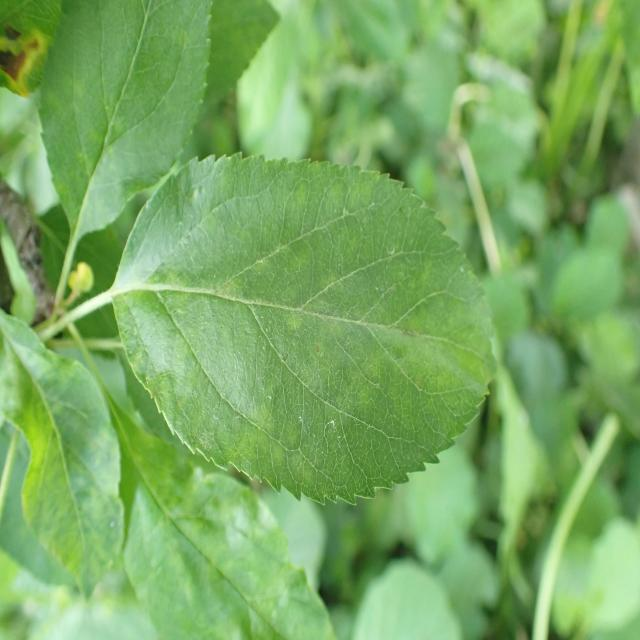scab: (119, 153, 468, 504)
